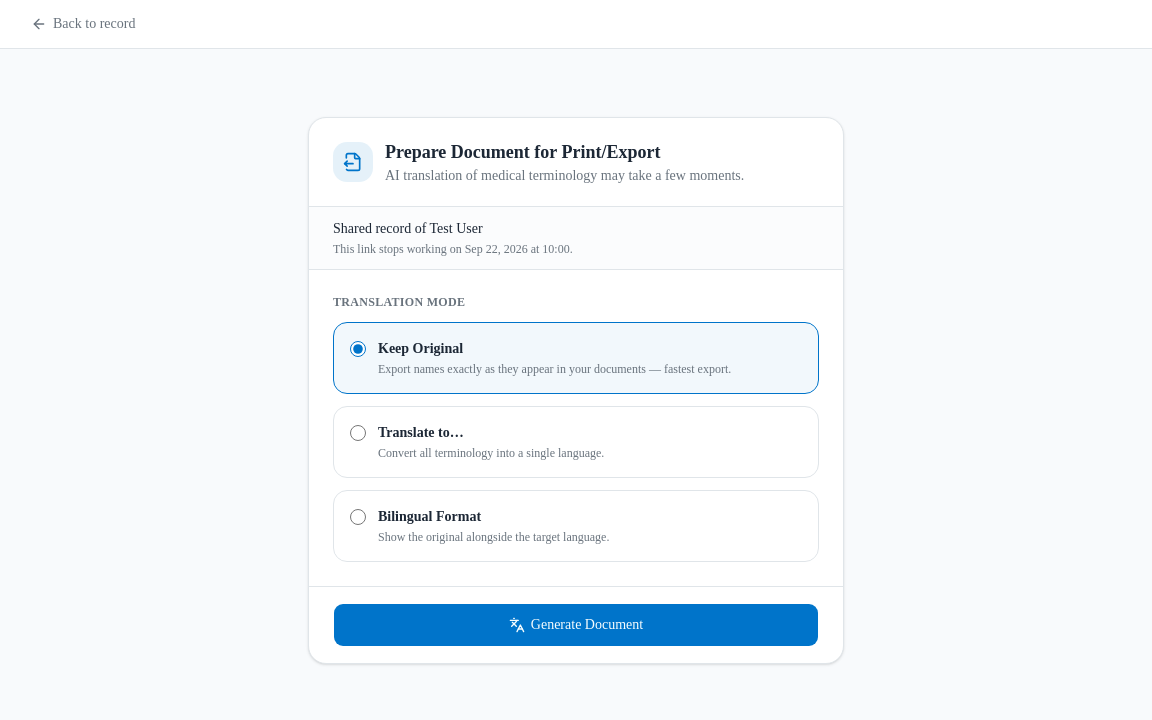
Test case: SharedPrintFlow budget › shows the remaining runs before one is spent, and opens the editor normally
Click the 2nd radio button at (358, 433), box [350,425,366,441]
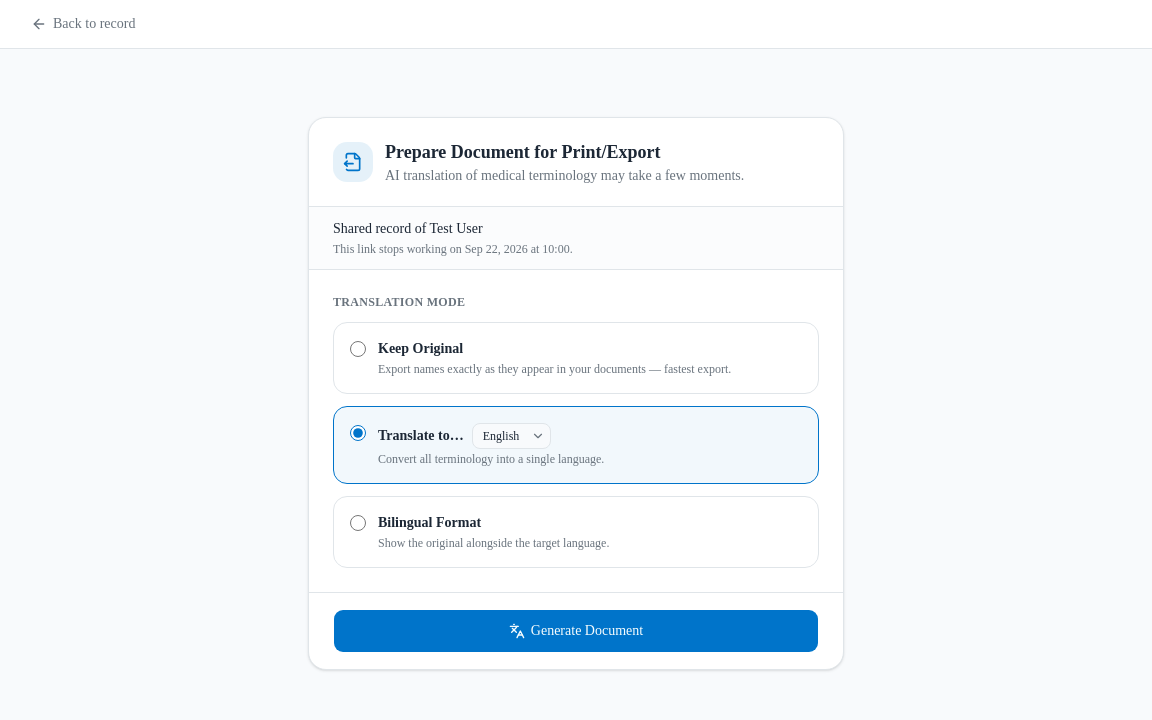
Select "German" in the dropdown at (511, 436), box [472,423,551,449]
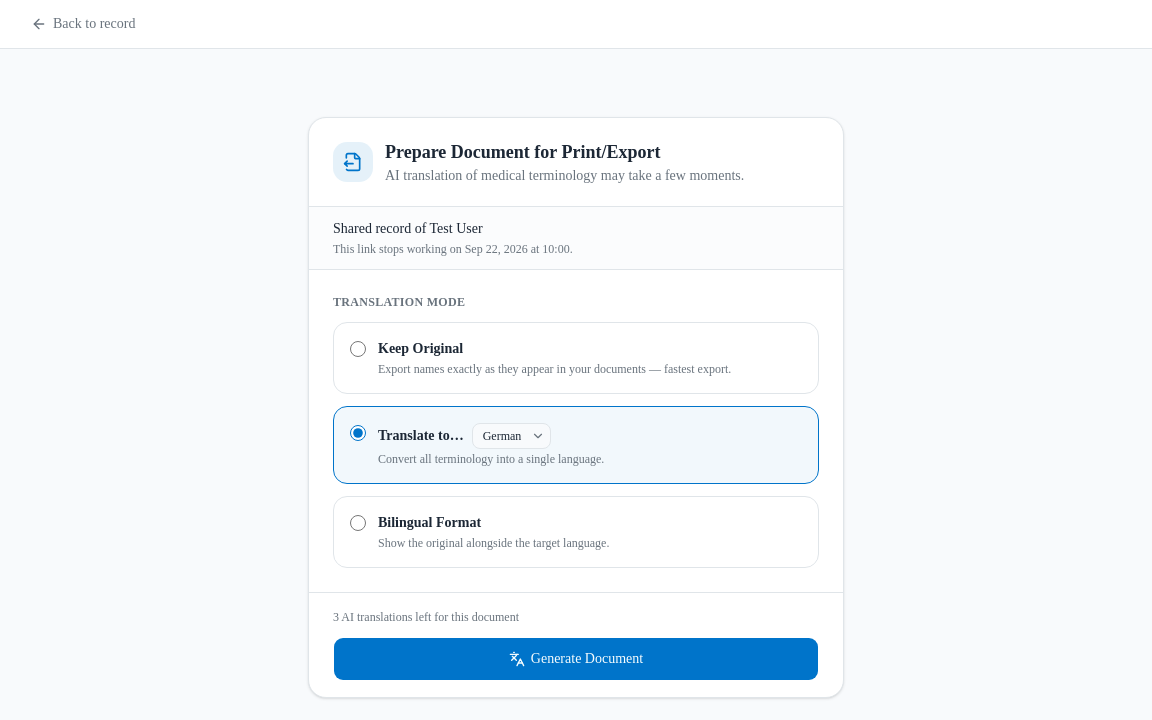
Expected: the text with test id "print-translation-budget" reads "3 AI translations left for this document", [333,610,519,624]
